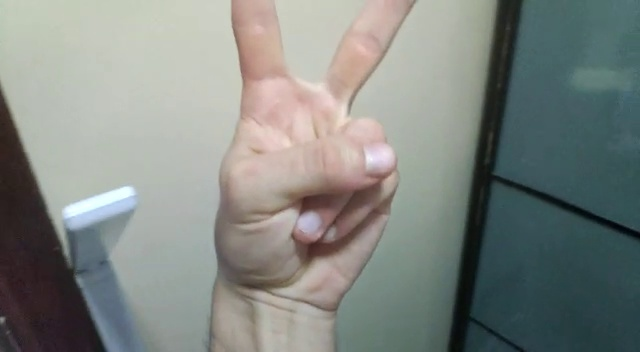Peace: (200, 1, 418, 285)
